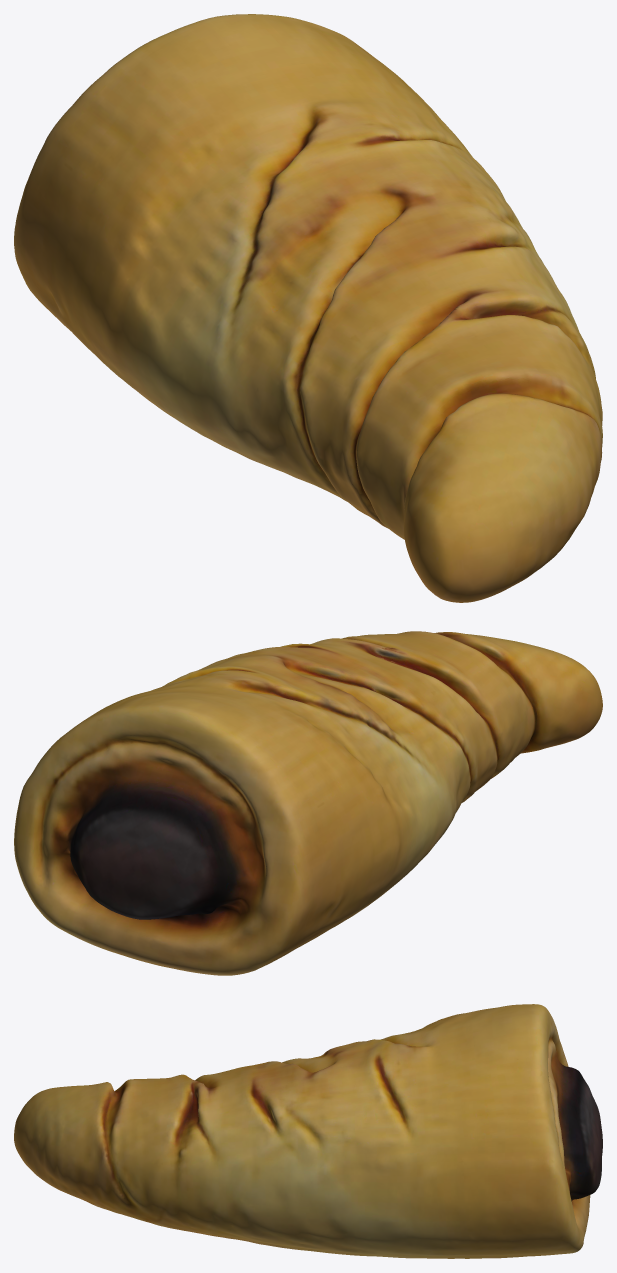
The model's file is 536e4bf9e6b6_horn_shaped_pastry_.fbx.
3 renders of one model, top to bottom at view 1: azimuth 30°, elevation 25°; view 2: azimuth 150°, elevation 25°; view 3: azimuth 270°, elevation 25°, orthographic. The views are drawn at different scales.
Parts seen in each view (by area): view 1: high_poly; view 2: high_poly; view 3: high_poly.
Boxes of the visible parts, x1,y1,x2,y2 form: high_poly: (14, 14, 602, 602); high_poly: (14, 631, 602, 975); high_poly: (14, 1004, 602, 1258).
Bounding box in the file's own units: 51.34 × 40.93 × 100.
